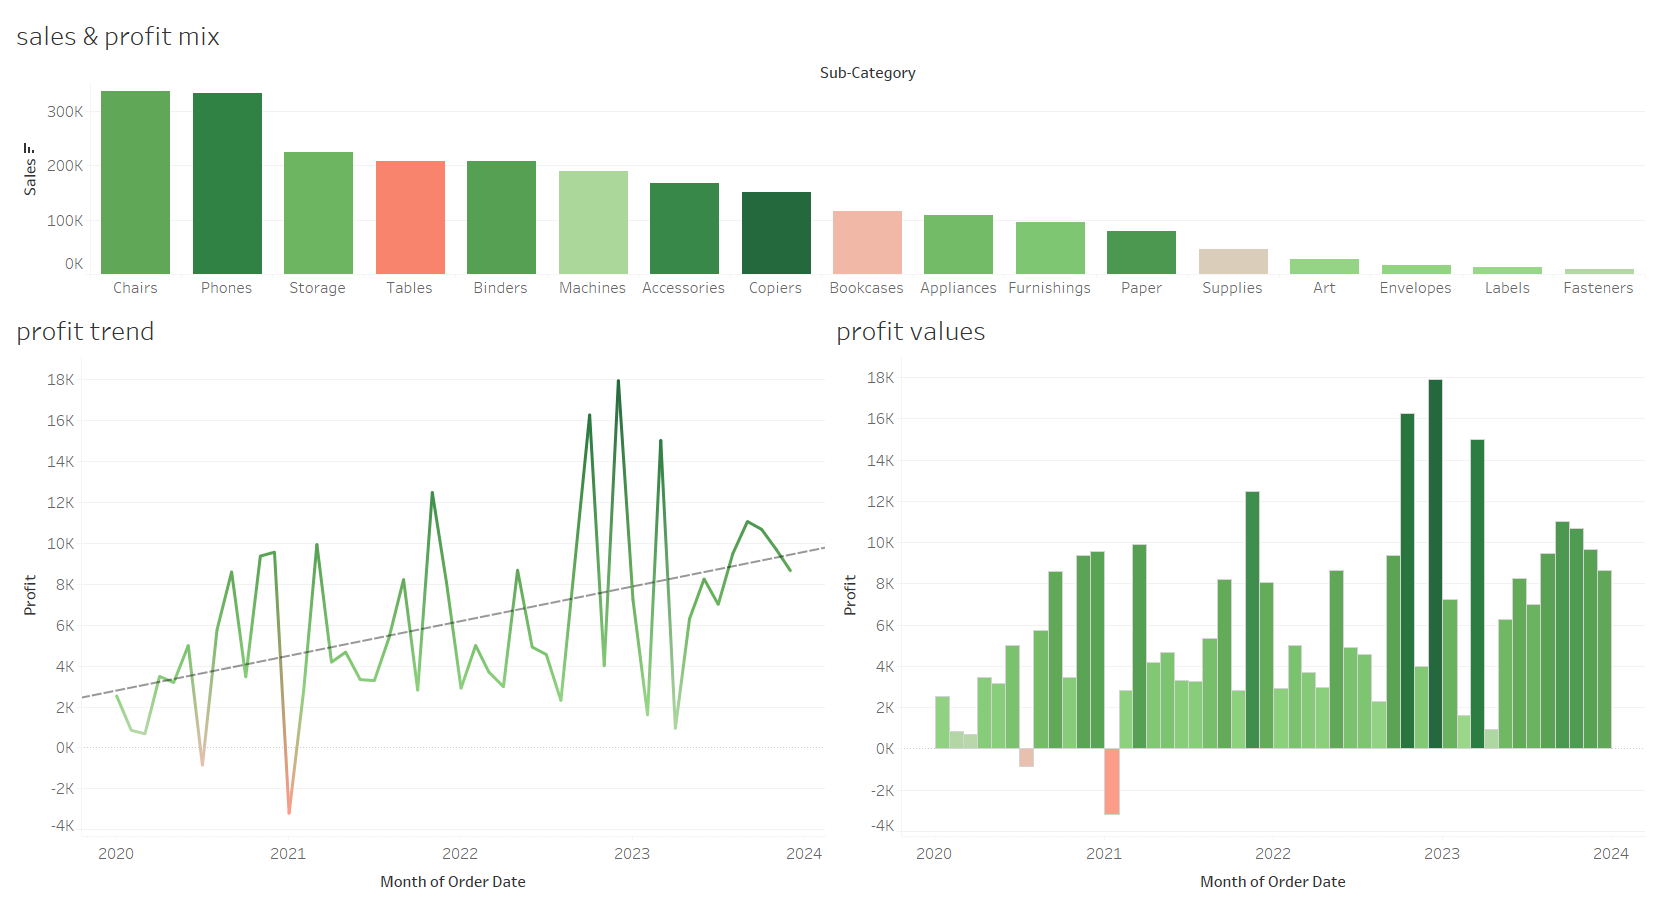

What the dashboard file says about the page in this screenshot:
{"tool":"tableau","page":{"name":"profits over time","canvas":[1000,1000],"units":"permille","ordinal":2},"visuals":[{"type":"worksheet","title":"sales & profit mix","mark":"Automatic","rows":["Sales"],"cols":["Sub-Category"],"box":[4.8,8.8,990.3,323.8]},{"type":"worksheet","title":"profit trend","mark":"Automatic","rows":["Profit"],"cols":["Order Date"],"box":[4.8,332.6,495.2,658.6]},{"type":"worksheet","title":"profit values","mark":"Bar","rows":["Profit"],"cols":["Order Date"],"box":[500,332.6,495.2,658.6]}]}

Visuals, with their boxes on the dashboard's canvas, which has no fixed pixel size, in thousandths of its width and height (x1, y1, x2, y2). These are canvas units, not pixel positions in the 1657x911 screenshot, which may show the page scaled, cropped or inside an application window:
"sales & profit mix" worksheet: [x1=5, y1=9, x2=995, y2=333]
"profit trend" worksheet: [x1=5, y1=333, x2=500, y2=991]
"profit values" worksheet (Bar marks): [x1=500, y1=333, x2=995, y2=991]
